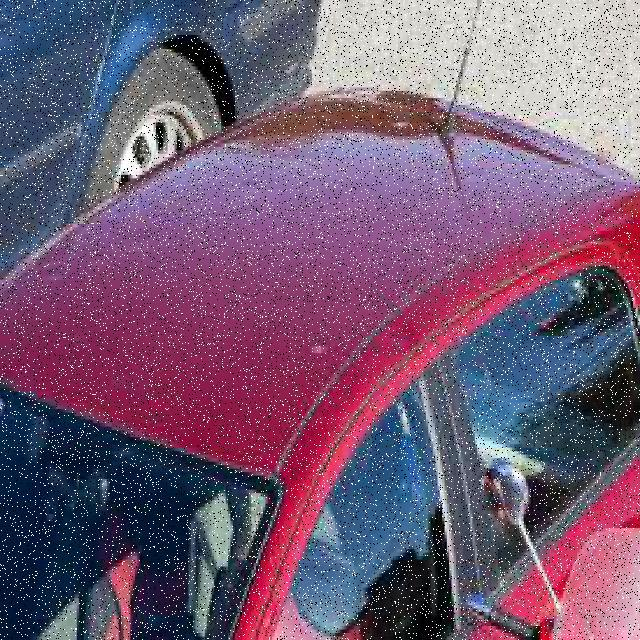roof-dent: (0, 132, 186, 447), (172, 123, 370, 410), (370, 105, 538, 280)
